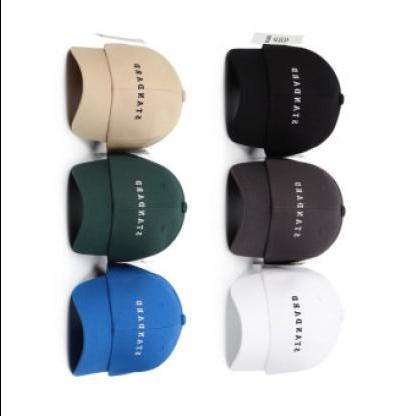cap: (58, 259, 194, 389), (224, 260, 356, 386), (222, 31, 348, 162), (61, 30, 188, 154)
